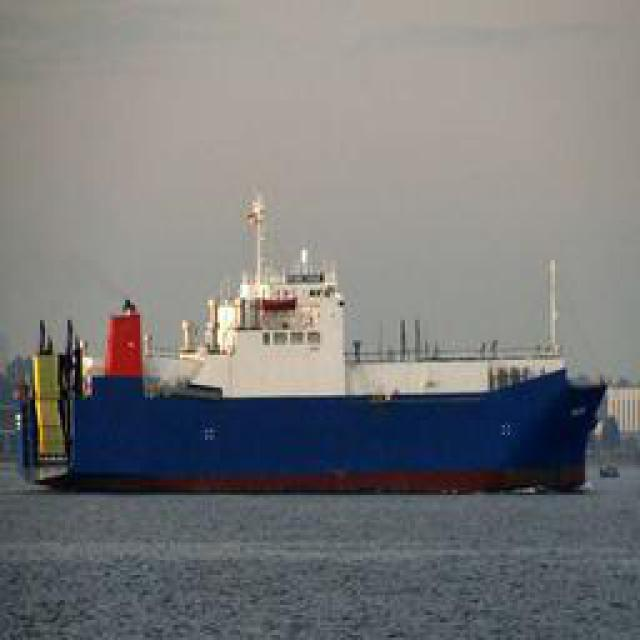Ship: (11, 188, 612, 499), (599, 460, 622, 483)
